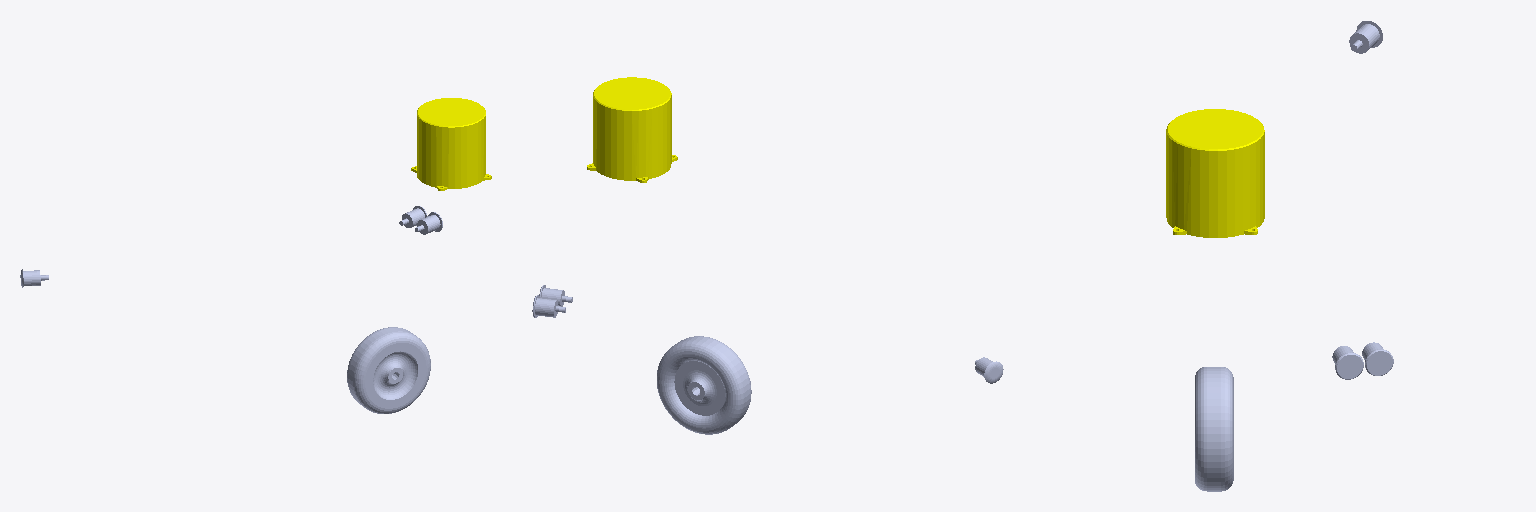
The robot description file, URDF, robot "smbot_description4":
<?xml version="1.0" encoding="utf-8"?>
<!-- This URDF was automatically created by SolidWorks to URDF Exporter! Originally created by [author] ([email redacted])
     Commit Version: 1.5.1-0-g916b5db  Build Version: 1.5.7152.31018
     For more information, please see http://wiki.ros.org/sw_urdf_exporter -->
<robot
  name="smbot_description4">
  <link
    name="base_link">
    <inertial>
      <origin
        xyz="0.106492268724378 -0.00148694701933302 0.536234808142642"
        rpy="0 0 0" />
      <mass
        value="39.5096930242325" />
      <inertia
        ixx="1.71763556317548"
        ixy="-0.00235586142796498"
        ixz="-0.0429816081105493"
        iyy="1.9502752913027"
        iyz="0.00118612967789479"
        izz="0.604098704612138" />
    </inertial>
    <visual>
      <origin
        xyz="0 0 0"
        rpy="0 0 0" />
      <geometry>
        <mesh
          filename="package://smbot_description4/meshes/base_link.STL" />
      </geometry>
      <material
        name="">
        <color
          rgba="0 0.749019607843137 1 1" />
      </material>
    </visual>
    <collision>
      <origin
        xyz="0 0 0"
        rpy="0 0 0" />
      <geometry>
        <mesh
          filename="package://smbot_description4/meshes/base_link.STL" />
      </geometry>
    </collision>
  </link>
  <link
    name="link_wheel_left">
    <inertial>
      <origin
        xyz="-9.71445146547012E-17 -0.000500000000824147 7.43211320310654E-06"
        rpy="0 0 0" />
      <mass
        value="0.478515278465427" />
      <inertia
        ixx="0.000919887702981847"
        ixy="-5.15060626523394E-19"
        ixz="-3.03037340643839E-20"
        iyy="0.00172218757582685"
        iyz="8.89627671521577E-11"
        izz="0.000919917345428581" />
    </inertial>
    <visual>
      <origin
        xyz="0 0 0"
        rpy="0 0 0" />
      <geometry>
        <mesh
          filename="package://smbot_description4/meshes/link_wheel_left.STL" />
      </geometry>
      <material
        name="">
        <color
          rgba="0.792156862745098 0.819607843137255 0.933333333333333 1" />
      </material>
    </visual>
    <collision>
      <origin
        xyz="0 0 0"
        rpy="0 0 0" />
      <geometry>
        <mesh
          filename="package://smbot_description4/meshes/link_wheel_left.STL" />
      </geometry>
    </collision>
  </link>
  <joint
    name="joint_wheel_left"
    type="fixed">
    <origin
      xyz="0 0.228000000000002 0"
      rpy="0 0 0" />
    <parent
      link="base_link" />
    <child
      link="link_wheel_left" />
    <axis
      xyz="0 0 0" />
  </joint>
  <link
    name="link_wheel_right">
    <inertial>
      <origin
        xyz="-4.16333634234434E-17 -8.24229573481716E-13 7.4321686470754E-06"
        rpy="0 0 0" />
      <mass
        value="0.478515278465427" />
      <inertia
        ixx="0.000919887702981847"
        ixy="-5.24986800594953E-19"
        ixz="3.03058503779904E-20"
        iyy="0.00172218757582685"
        iyz="8.89627670245906E-11"
        izz="0.000919917345428581" />
    </inertial>
    <visual>
      <origin
        xyz="0 0 0"
        rpy="0 0 0" />
      <geometry>
        <mesh
          filename="package://smbot_description4/meshes/link_wheel_right.STL" />
      </geometry>
      <material
        name="">
        <color
          rgba="0.792156862745098 0.819607843137255 0.933333333333333 1" />
      </material>
    </visual>
    <collision>
      <origin
        xyz="0 0 0"
        rpy="0 0 0" />
      <geometry>
        <mesh
          filename="package://smbot_description4/meshes/link_wheel_right.STL" />
      </geometry>
    </collision>
  </link>
  <joint
    name="joint_wheel_right"
    type="fixed">
    <origin
      xyz="0 -0.227500000000002 0"
      rpy="0 0 0" />
    <parent
      link="base_link" />
    <child
      link="link_wheel_right" />
    <axis
      xyz="0 0 0" />
  </joint>
  <link
    name="link_caster">
    <inertial>
      <origin
        xyz="2.77555756156289E-17 -0.000431886286135946 0"
        rpy="0 0 0" />
      <mass
        value="0.205283816888508" />
      <inertia
        ixx="0.000153304057154647"
        ixy="1.673524820576E-20"
        ixz="0"
        iyy="0.000280614230922824"
        iyz="-6.76855511542751E-31"
        izz="0.000153304057154647" />
    </inertial>
    <visual>
      <origin
        xyz="0 0 0"
        rpy="0 0 0" />
      <geometry>
        <mesh
          filename="package://smbot_description4/meshes/link_caster.STL" />
      </geometry>
      <material
        name="">
        <color
          rgba="0.792156862745098 0.819607843137255 0.933333333333333 1" />
      </material>
    </visual>
    <collision>
      <origin
        xyz="0 0 0"
        rpy="0 0 0" />
      <geometry>
        <mesh
          filename="package://smbot_description4/meshes/link_caster.STL" />
      </geometry>
    </collision>
  </link>
  <joint
    name="joint_caster"
    type="continuous">
    <origin
      xyz="0.205419999998498 0 -0.0256900277222159"
      rpy="0 0 0" />
    <parent
      link="base_link" />
    <child
      link="link_caster" />
    <axis
      xyz="0 -1 0" />
  </joint>
  <link
    name="link_sonar_front_right">
    <inertial>
      <origin
        xyz="-0.0111532555797955 1.93178806284777E-14 1.38777878078145E-17"
        rpy="0 0 0" />
      <mass
        value="0.0124805004151605" />
      <inertia
        ixx="5.35082972263177E-07"
        ixy="7.00734475395722E-19"
        ixz="-1.45381871674759E-21"
        iyy="9.39414302038018E-07"
        iyz="-3.35595255288334E-23"
        izz="9.39414302038017E-07" />
    </inertial>
    <visual>
      <origin
        xyz="0 0 0"
        rpy="0 0 0" />
      <geometry>
        <mesh
          filename="package://smbot_description4/meshes/link_sonar_front_right.STL" />
      </geometry>
      <material
        name="">
        <color
          rgba="0.792156862745098 0.819607843137255 0.933333333333333 1" />
      </material>
    </visual>
    <collision>
      <origin
        xyz="0 0 0"
        rpy="0 0 0" />
      <geometry>
        <mesh
          filename="package://smbot_description4/meshes/link_sonar_front_right.STL" />
      </geometry>
    </collision>
  </link>
  <joint
    name="joint_sonar_front_right"
    type="fixed">
    <origin
      xyz="0.328708818153878 0.122517628221106 0.0889999858636356"
      rpy="0 0 0.261799387800854" />
    <parent
      link="base_link" />
    <child
      link="link_sonar_front_right" />
    <axis
      xyz="0 0 0" />
  </joint>
  
  <link
    name="link_sonar_front_left">
    <inertial>
      <origin
        xyz="-0.0111532555797956 -1.93317584162855E-14 -1.38777878078145E-17"
        rpy="0 0 0" />
      <mass
        value="0.0124805004151605" />
      <inertia
        ixx="5.35082972263177E-07"
        ixy="-7.00787414954925E-19"
        ixz="1.15838331906944E-21"
        iyy="9.39414302038018E-07"
        iyz="2.02452184610624E-23"
        izz="9.39414302038017E-07" />
    </inertial>
    <visual>
      <origin
        xyz="0 0 0"
        rpy="0 0 0" />
      <geometry>
        <mesh
          filename="package://smbot_description4/meshes/link_sonar_front_left.STL" />
      </geometry>
      <material
        name="">
        <color
          rgba="0.792156862745098 0.819607843137255 0.933333333333333 1" />
      </material>
    </visual>
    <collision>
      <origin
        xyz="0 0 0"
        rpy="0 0 0" />
      <geometry>
        <mesh
          filename="package://smbot_description4/meshes/link_sonar_front_left.STL" />
      </geometry>
    </collision>
  </link>
  <joint
    name="joint_sonar_front_left"
    type="fixed">
    <origin
      xyz="0.328708818153878 -0.122517647959302 0.0889999586919727"
      rpy="0 0 -0.261799387800851" />
    <parent
      link="base_link" />
    <child
      link="link_sonar_front_left" />
    <axis
      xyz="0 0 0" />
  </joint>
  <link
    name="link_sonar_front_above">
    <inertial>
      <origin
        xyz="-0.0111531414020555 1.27032698935865E-09 -5.04667612932219E-05"
        rpy="0 0 0" />
      <mass
        value="0.0124805004151605" />
      <inertia
        ixx="5.350912506355E-07"
        ixy="4.60518223388122E-14"
        ixz="-1.82951817653214E-09"
        iyy="9.39414302038011E-07"
        iyz="2.08379526567182E-16"
        izz="9.39406023665693E-07" />
    </inertial>
    <visual>
      <origin
        xyz="0 0 0"
        rpy="0 0 0" />
      <geometry>
        <mesh
          filename="package://smbot_description4/meshes/link_sonar_front_above.STL" />
      </geometry>
      <material
        name="">
        <color
          rgba="0.792156862745098 0.819607843137255 0.933333333333333 1" />
      </material>
    </visual>
    <collision>
      <origin
        xyz="0 0 0"
        rpy="0 0 0" />
      <geometry>
        <mesh
          filename="package://smbot_description4/meshes/link_sonar_front_above.STL" />
      </geometry>
    </collision>
  </link>
  <joint
    name="joint_sonar_front_above"
    type="fixed">
    <origin
      xyz="0.366 0 0.440999972277802"
      rpy="-2.50606677340551E-05 0.00452486120856033 0" />
    <parent
      link="base_link" />
    <child
      link="link_sonar_front_above" />
    <axis
      xyz="0 0 0" />
  </joint>
  <link
    name="link_sonar_back_left">
    <inertial>
      <origin
        xyz="-0.0111532555797956 1.38777878078145E-17 2.77555756156289E-17"
        rpy="0 0 0" />
      <mass
        value="0.00624025020758028" />
      <inertia
        ixx="2.6754148613159E-07"
        ixy="-2.18375681713999E-22"
        ixz="-4.71424732590244E-22"
        iyy="4.6970715101901E-07"
        iyz="1.15932968273306E-23"
        izz="4.6970715101901E-07" />
    </inertial>
    <visual>
      <origin
        xyz="0 0 0"
        rpy="0 0 0" />
      <geometry>
        <mesh
          filename="package://smbot_description4/meshes/link_sonar_back_left.STL" />
      </geometry>
      <material
        name="">
        <color
          rgba="0.792156862745098 0.819607843137255 0.933333333333333 1" />
      </material>
    </visual>
    <collision>
      <origin
        xyz="0 0 0"
        rpy="0 0 0" />
      <geometry>
        <mesh
          filename="package://smbot_description4/meshes/link_sonar_back_left.STL" />
      </geometry>
    </collision>
  </link>
  <joint
    name="joint_sonar_back_left"
    type="fixed">
    <origin
      xyz="-0.208982437885773 0.127293786247109 0.135999986393258"
      rpy="0 0 2.70526034059121" />
    <parent
      link="base_link" />
    <child
      link="link_sonar_back_left" />
    <axis
      xyz="0 0 0" />
  </joint>
  <link
    name="link_lidar">
    <inertial>
      <origin
        xyz="2.77555756156289E-17 -2.60208521396521E-17 -0.0296272769990145"
        rpy="0 0 0" />
      <mass
        value="0.398155541808567" />
      <inertia
        ixx="0.000367671937320448"
        ixy="-4.81160622564439E-19"
        ixz="1.31139074784662E-19"
        iyy="0.000367671937320448"
        iyz="-1.26099177680066E-19"
        izz="0.00031914344200442" />
    </inertial>
    <visual>
      <origin
        xyz="0 0 0"
        rpy="0 0 0" />
      <geometry>
        <mesh
          filename="package://smbot_description4/meshes/link_lidar.STL" />
      </geometry>
      <material
        name="">
        <color
          rgba="1 1 0 1" />
      </material>
    </visual>
    <collision>
      <origin
        xyz="0 0 0"
        rpy="0 0 0" />
      <geometry>
        <mesh
          filename="package://smbot_description4/meshes/link_lidar.STL" />
      </geometry>
    </collision>
  </link>
  <joint
    name="joint_lidar"
    type="fixed">
    <origin
      xyz="0.2889393398282 0.00106062999896635 0.272099972395418"
      rpy="0 0 0" />
    <parent
      link="base_link" />
    <child
      link="link_lidar" />
    <axis
      xyz="0 0 0" />
  </joint>
  <link
    name="link_sonar_back_right">
    <inertial>
      <origin
        xyz="-0.0111532555797956 2.77555756156289E-17 2.77555756156289E-17"
        rpy="0 0 0" />
      <mass
        value="0.00624025020758029" />
      <inertia
        ixx="2.6754148613159E-07"
        ixy="2.05140791913151E-22"
        ixz="-1.24643212585072E-21"
        iyy="4.6970715101901E-07"
        iyz="-2.39466548426701E-23"
        izz="4.6970715101901E-07" />
    </inertial>
    <visual>
      <origin
        xyz="0 0 0"
        rpy="0 0 0" />
      <geometry>
        <mesh
          filename="package://smbot_description4/meshes/link_sonar_back_right.STL" />
      </geometry>
      <material
        name="">
        <color
          rgba="0.792156862745098 0.819607843137255 0.933333333333333 1" />
      </material>
    </visual>
    <collision>
      <origin
        xyz="0 0 0"
        rpy="0 0 0" />
      <geometry>
        <mesh
          filename="package://smbot_description4/meshes/link_sonar_back_right.STL" />
      </geometry>
    </collision>
  </link>
  <joint
    name="joint_sonar_back_right"
    type="fixed">
    <origin
      xyz="-0.208982437885773 -0.127293816408852 0.13599995816235"
      rpy="0 0 -2.70526034059121" />
    <parent
      link="base_link" />
    <child
      link="link_sonar_back_right" />
    <axis
      xyz="0 0 0" />
  </joint>
</robot>

--- Render facts (derived) ---
Views: 3 orthographic renders of the robot side by side, from view 1: azimuth 30°, elevation 25°; view 2: azimuth 150°, elevation 25°; view 3: azimuth 270°, elevation 25°.
Model smbot_description4 with 10 links and 9 joints (1 continuous, 8 fixed), rooted at base_link, posed every joint at zero.
Visible links, largest first — view 1: link_lidar, link_caster, link_sonar_front_right; view 2: link_lidar, link_caster, link_sonar_front_right; view 3: link_lidar, link_caster, link_sonar_front_right, link_sonar_back_left.
Boxes of the visible links, left/top/right/bottom form: link_lidar: left=411, top=98, right=491, bottom=190; link_caster: left=347, top=327, right=430, bottom=413; link_sonar_front_right: left=399, top=206, right=442, bottom=234; link_lidar: left=587, top=77, right=677, bottom=182; link_caster: left=657, top=336, right=751, bottom=434; link_sonar_front_right: left=532, top=285, right=572, bottom=317; link_lidar: left=1166, top=109, right=1264, bottom=237; link_caster: left=1195, top=367, right=1233, bottom=491; link_sonar_front_right: left=1332, top=342, right=1393, bottom=379; link_sonar_back_left: left=1349, top=21, right=1382, bottom=53.
Bounding box of the posed robot: 0.5472 × 0.1848 × 0.3585 m (x, y, z).
4 mesh visuals loaded from 10 distinct referenced files (4 binary STL); not drawn: 6 (reference not matched to a file when rendering).